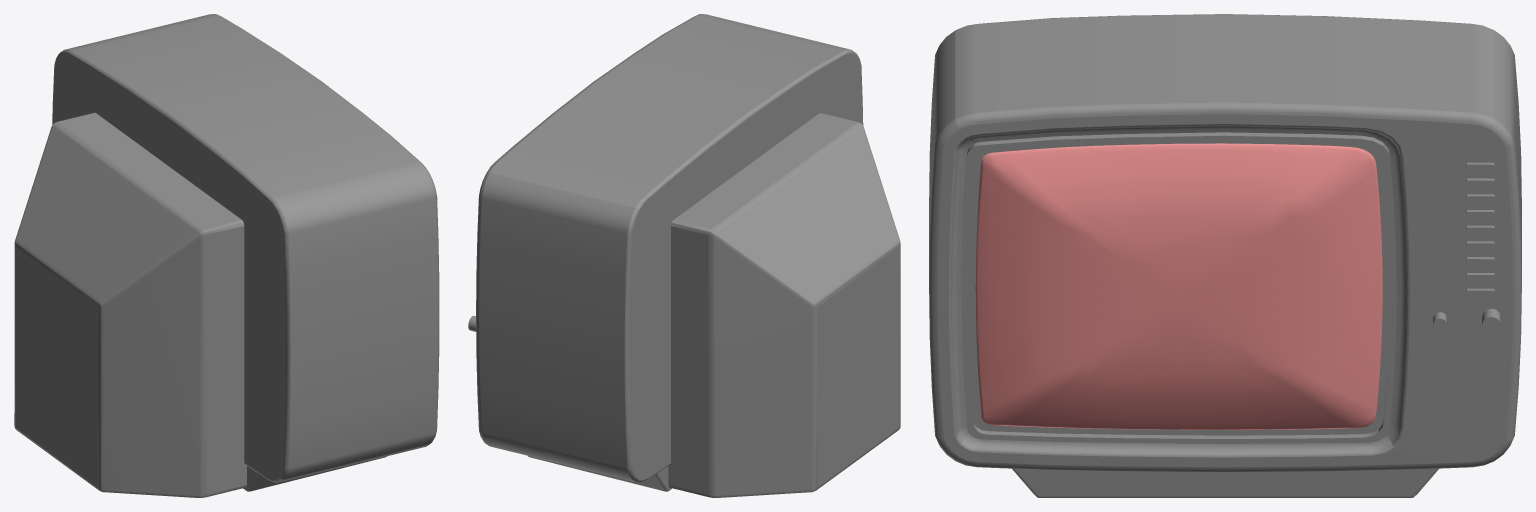
File: ControlRoom_Monitor_01.gltf
The picture shows the model from 3 angles, left to right: view 1: azimuth 30°, elevation 25°; view 2: azimuth 150°, elevation 25°; view 3: azimuth 270°, elevation 25°; orthographic projection. The views are drawn at different scales.
Parts seen in each view (by area): view 1: ControlRoom_Monitor_01; view 2: ControlRoom_Monitor_01; view 3: ControlRoom_Monitor_01.
Boxes of the visible parts, <box> form: ControlRoom_Monitor_01: <box>14,14,439,497</box>; ControlRoom_Monitor_01: <box>468,14,900,497</box>; ControlRoom_Monitor_01: <box>929,14,1521,497</box>.
Size of the model in its own units: 4.73 by 5.18 by 6.93.
